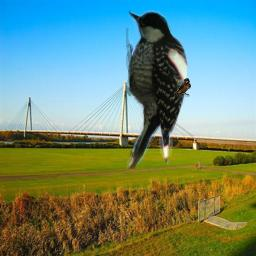Swallow: (174, 78, 191, 97)
Woodpecker: (126, 10, 188, 169)
